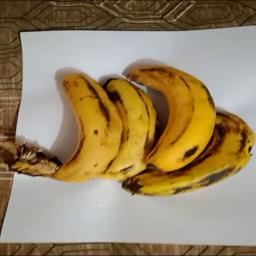Banana Semifresh: (52, 62, 252, 195)
